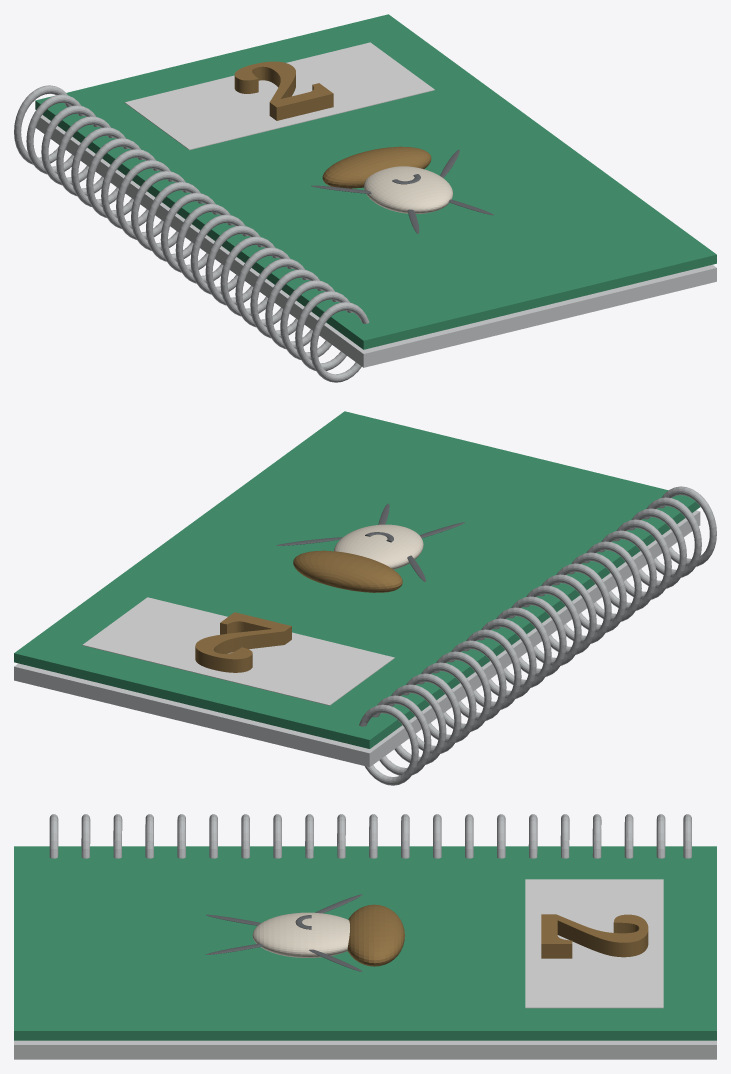
File: Notebook.gltf
3 renders of one model, top to bottom at view 1: azimuth 30°, elevation 25°; view 2: azimuth 150°, elevation 25°; view 3: azimuth 270°, elevation 25°, orthographic. The views are drawn at different scales.
Visible parts, largest first — view 1: Mesh_Mesh_head_geo.001_lambert2SG.001; view 2: Mesh_Mesh_head_geo.001_lambert2SG.001; view 3: Mesh_Mesh_head_geo.001_lambert2SG.001.
Boxes of the visible parts, left/top/right/bottom form: Mesh_Mesh_head_geo.001_lambert2SG.001: left=14, top=14, right=716, bottom=382; Mesh_Mesh_head_geo.001_lambert2SG.001: left=14, top=411, right=716, bottom=785; Mesh_Mesh_head_geo.001_lambert2SG.001: left=14, top=814, right=716, bottom=1059.
Size of the model in its own units: 90 by 17.47 by 132.
